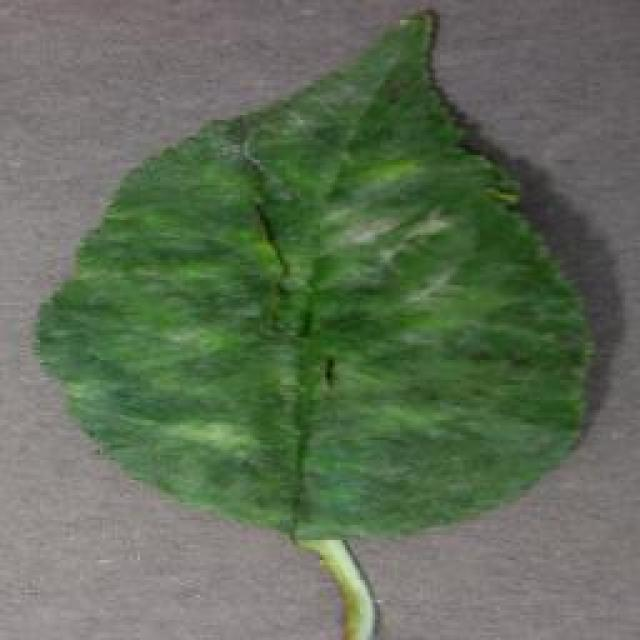Cher_including_sour_Pow_mildew: (296, 170, 472, 320)
